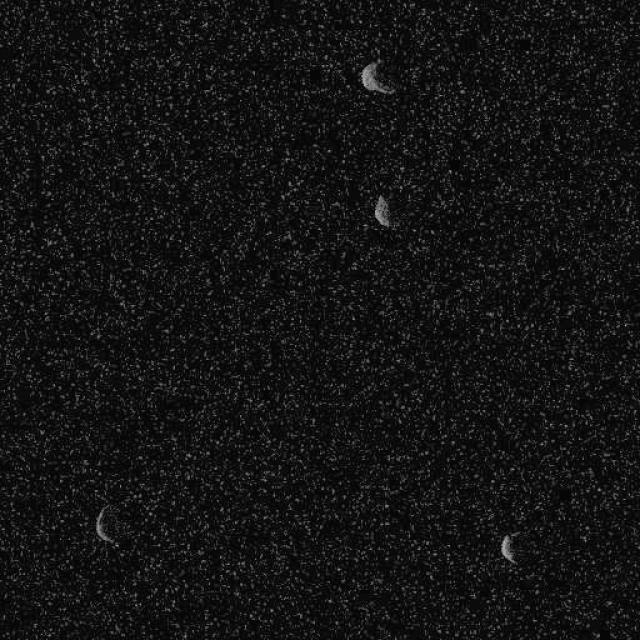D2: (360, 59, 395, 95), (94, 503, 118, 545), (372, 194, 390, 228), (500, 532, 518, 564)
